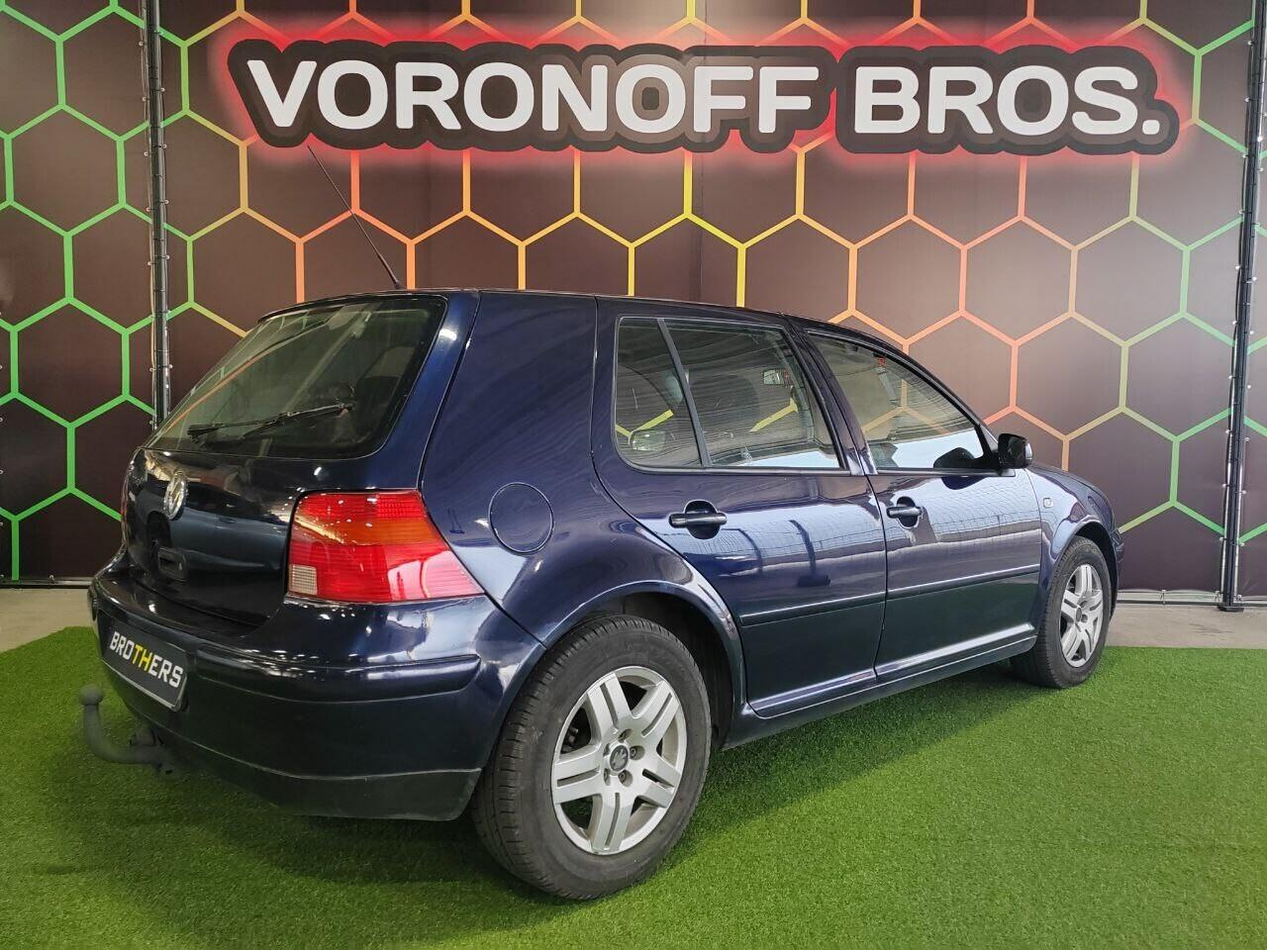Golf_1997-2006: (80, 286, 1132, 901)
